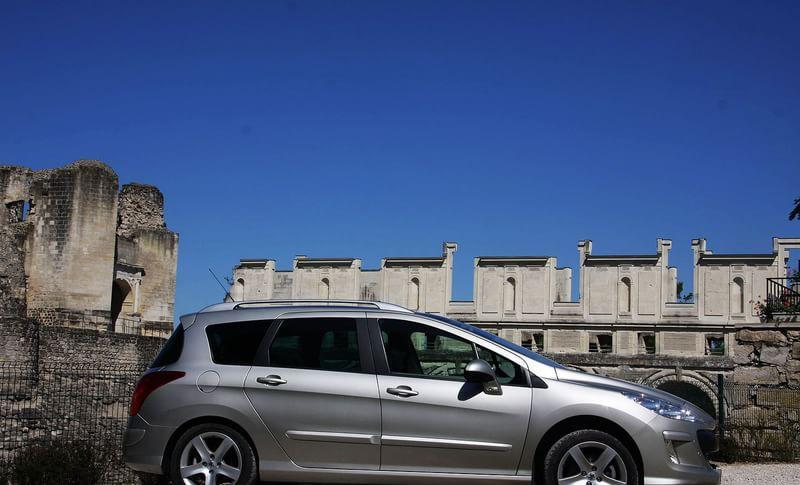Wagon: (121, 298, 722, 485)
